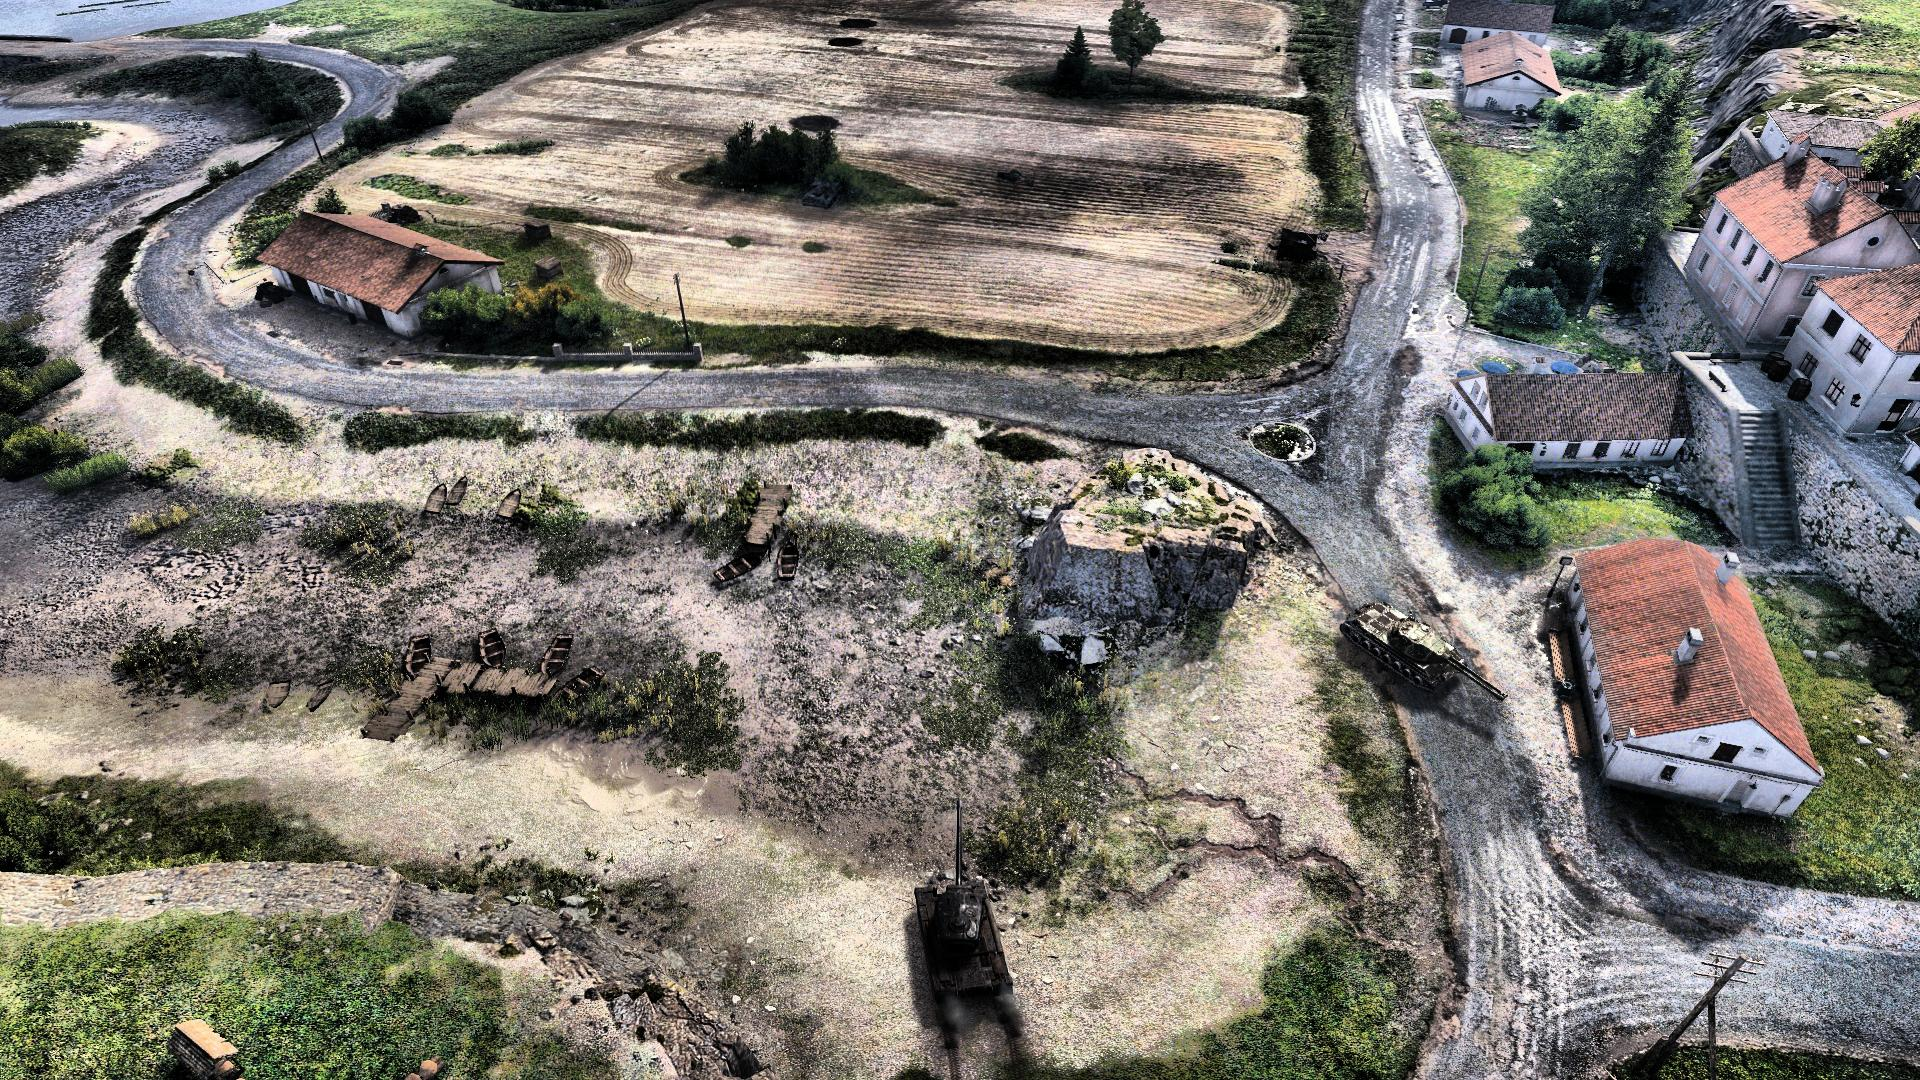military-vehicle: (914, 800, 1015, 1004), (1341, 596, 1503, 705)
